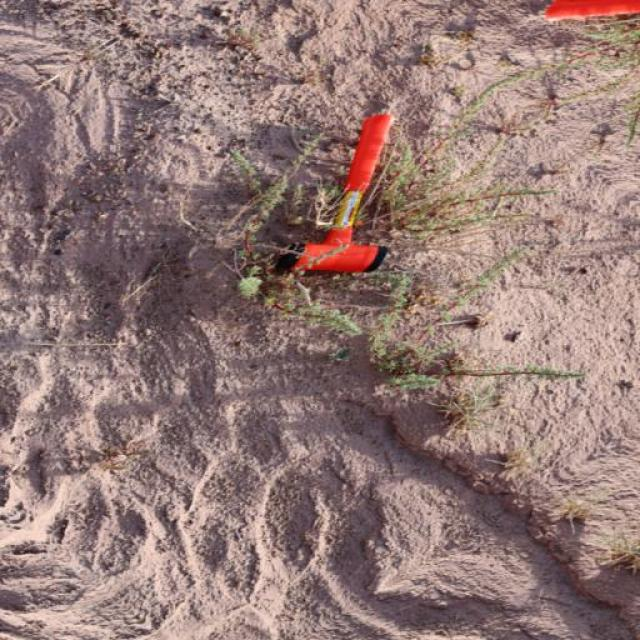mallet: (280, 110, 395, 276)
